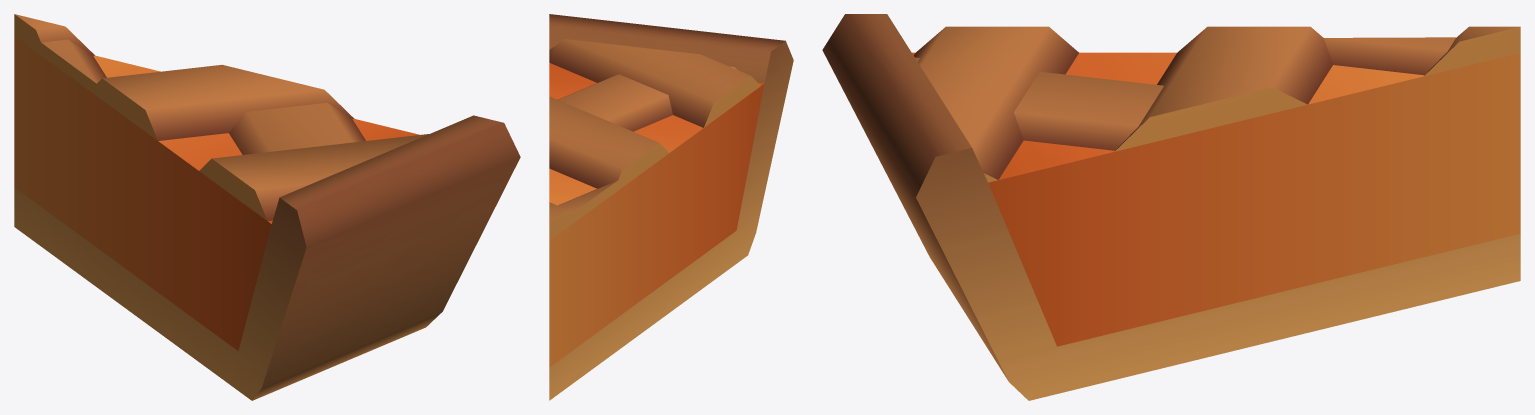
The model's file is m_AmericanPie04_Slice03.fbx.
The picture shows the model from 3 angles, left to right: view 1: azimuth 30°, elevation 25°; view 2: azimuth 150°, elevation 25°; view 3: azimuth 270°, elevation 25°; orthographic projection. The views are drawn at different scales.
Visible parts, largest first — view 1: m_AmericanPie04_Slice03; view 2: m_AmericanPie04_Slice03; view 3: m_AmericanPie04_Slice03.
Boxes of the visible parts, <box> form: m_AmericanPie04_Slice03: <box>14,14,520,400</box>; m_AmericanPie04_Slice03: <box>549,14,793,400</box>; m_AmericanPie04_Slice03: <box>822,14,1520,400</box>.
Bounding box in the file's own units: 7 × 5.91 × 14.
